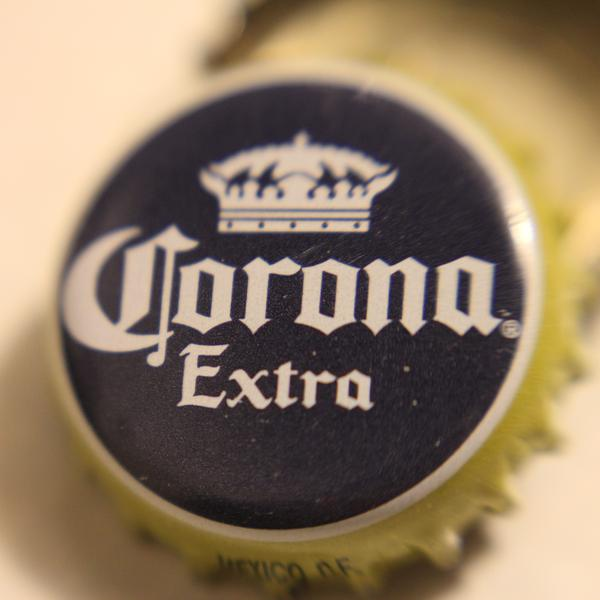corona: (44, 62, 553, 555)
